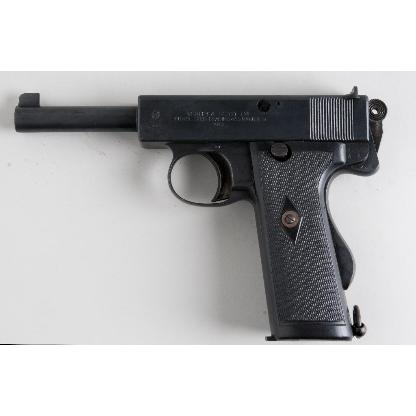gun: (13, 92, 387, 340)
